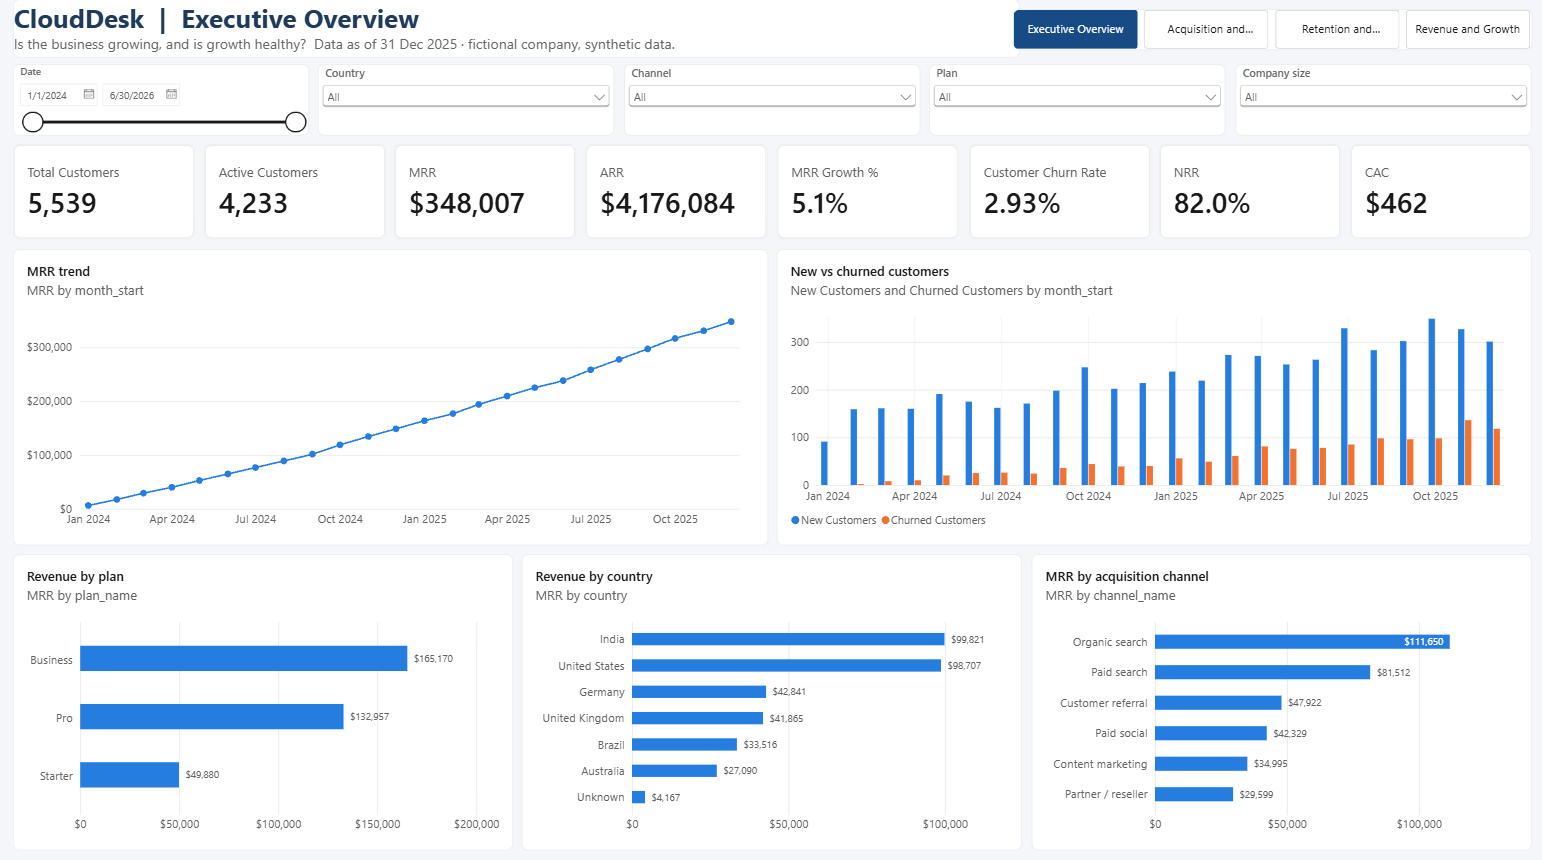

Layout of this report page (visuals, bound fields, positions):
{"tool":"powerbi","page":{"name":"Executive Overview","canvas":[1920,1080],"ordinal":0},"visuals":[{"type":"textbox","box":[24,8,1240,72],"z":0},{"type":"pageNavigator","box":[1256,20,640,50],"z":1000},{"type":"slicer","fields":{"Values":["dim_date.date"]},"box":[24,88,365,88],"z":2000},{"type":"slicer","fields":{"Values":["dim_accounts.country"]},"box":[401,88,365,88],"z":3000},{"type":"slicer","fields":{"Values":["dim_channel.channel_name"]},"box":[778,88,365,88],"z":4000},{"type":"slicer","fields":{"Values":["dim_plans.plan_name"]},"box":[1154,88,365,88],"z":5000},{"type":"slicer","fields":{"Values":["dim_accounts.company_size"]},"box":[1531,88,365,88],"z":6000},{"type":"cardVisual","fields":{"Data":["_Measures.Total Customers"]},"box":[24,186,224,117],"z":7000},{"type":"cardVisual","fields":{"Data":["_Measures.Active Customers"]},"box":[260,186,224,117],"z":8000},{"type":"cardVisual","fields":{"Data":["_Measures.MRR"]},"box":[495,186,224,117],"z":9000},{"type":"cardVisual","fields":{"Data":["_Measures.ARR"]},"box":[730,186,224,117],"z":10000},{"type":"cardVisual","fields":{"Data":["_Measures.MRR Growth %"]},"box":[966,186,224,117],"z":11000},{"type":"cardVisual","fields":{"Data":["_Measures.Customer Churn Rate"]},"box":[1202,186,224,117],"z":12000},{"type":"cardVisual","fields":{"Data":["_Measures.NRR"]},"box":[1437,186,224,117],"z":13000},{"type":"cardVisual","fields":{"Data":["_Measures.CAC"]},"box":[1672,186,224,117],"z":14000},{"type":"lineChart","title":"MRR trend","fields":{"Category":["dim_date.month_start"],"Y":["_Measures.MRR"]},"box":[24,315,930,365],"z":15000},{"type":"clusteredColumnChart","title":"New vs churned customers","fields":{"Category":["dim_date.month_start"],"Y":["_Measures.New Customers","_Measures.Churned Customers"]},"box":[966,315,930,365],"z":16000},{"type":"clusteredBarChart","title":"Revenue by plan","fields":{"Category":["dim_plans.plan_name"],"Y":["_Measures.MRR"]},"box":[24,692,616,365],"z":17000},{"type":"clusteredBarChart","title":"Revenue by country","fields":{"Category":["dim_accounts.country"],"Y":["_Measures.MRR"]},"box":[652,692,616,365],"z":18000},{"type":"clusteredBarChart","title":"MRR by acquisition channel","fields":{"Category":["dim_channel.channel_name"],"Y":["_Measures.MRR"]},"box":[1280,692,616,365],"z":19000}]}

Visuals, with their boxes in screenshot pixels (x1, y1, x2, y2), scaled from the page's 1920x1080 canvas onto the 1542x860 screenshot:
textbox: {"x1": 19, "y1": 6, "x2": 1015, "y2": 64}
pageNavigator: {"x1": 1009, "y1": 16, "x2": 1523, "y2": 56}
slicer - dim_date.date: {"x1": 19, "y1": 70, "x2": 312, "y2": 140}
slicer - dim_accounts.country: {"x1": 322, "y1": 70, "x2": 615, "y2": 140}
slicer - dim_channel.channel_name: {"x1": 625, "y1": 70, "x2": 918, "y2": 140}
slicer - dim_plans.plan_name: {"x1": 927, "y1": 70, "x2": 1220, "y2": 140}
slicer - dim_accounts.company_size: {"x1": 1230, "y1": 70, "x2": 1523, "y2": 140}
cardVisual - _Measures.Total Customers: {"x1": 19, "y1": 148, "x2": 199, "y2": 241}
cardVisual - _Measures.Active Customers: {"x1": 209, "y1": 148, "x2": 389, "y2": 241}
cardVisual - _Measures.MRR: {"x1": 398, "y1": 148, "x2": 577, "y2": 241}
cardVisual - _Measures.ARR: {"x1": 586, "y1": 148, "x2": 766, "y2": 241}
cardVisual - _Measures.MRR Growth %: {"x1": 776, "y1": 148, "x2": 956, "y2": 241}
cardVisual - _Measures.Customer Churn Rate: {"x1": 965, "y1": 148, "x2": 1145, "y2": 241}
cardVisual - _Measures.NRR: {"x1": 1154, "y1": 148, "x2": 1334, "y2": 241}
cardVisual - _Measures.CAC: {"x1": 1343, "y1": 148, "x2": 1523, "y2": 241}
"MRR trend" lineChart: {"x1": 19, "y1": 251, "x2": 766, "y2": 541}
"New vs churned customers" clusteredColumnChart: {"x1": 776, "y1": 251, "x2": 1523, "y2": 541}
"Revenue by plan" clusteredBarChart: {"x1": 19, "y1": 551, "x2": 514, "y2": 842}
"Revenue by country" clusteredBarChart: {"x1": 524, "y1": 551, "x2": 1018, "y2": 842}
"MRR by acquisition channel" clusteredBarChart: {"x1": 1028, "y1": 551, "x2": 1523, "y2": 842}
